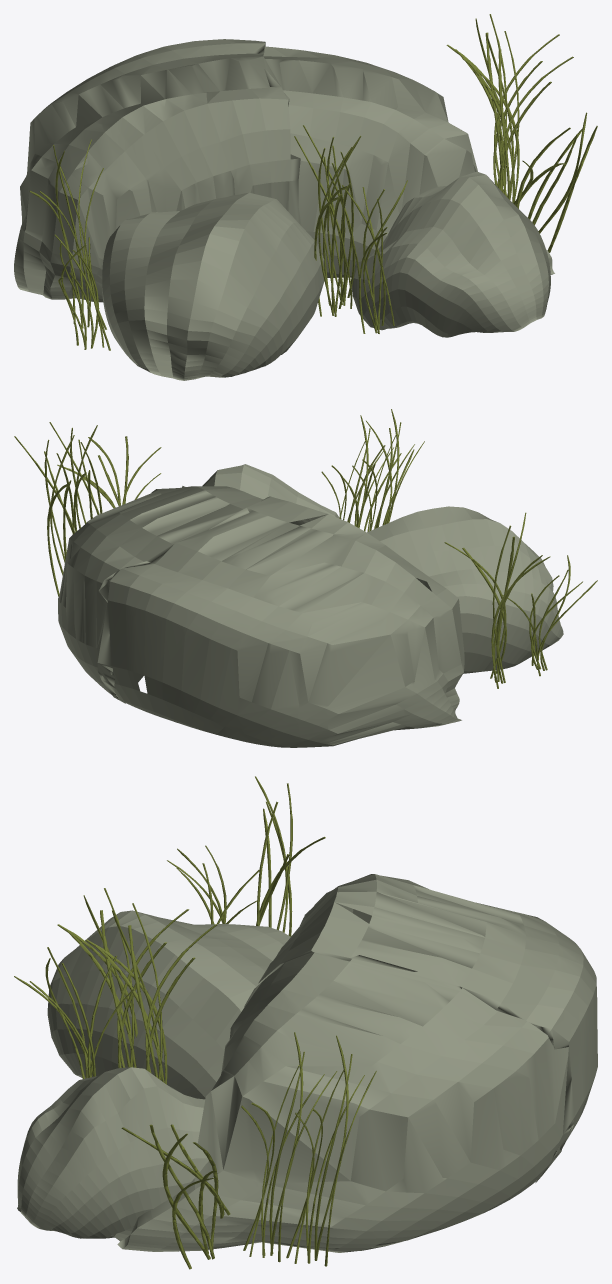
The model's file is ROCK.fbx.
The picture shows the model from 3 angles, top to bottom: view 1: azimuth 30°, elevation 25°; view 2: azimuth 150°, elevation 25°; view 3: azimuth 270°, elevation 25°; orthographic projection. The views are drawn at different scales.
Visible parts, largest first — view 1: Group6, Group2, Group4, D_3_00cm21, D_3_00cm51; view 2: Group6, Group2, Group4; view 3: Group6, Group2, Group4.
Boxes of the visible parts, x1,y1,x2,y2 form: Group6: [14, 39, 554, 302]; Group2: [102, 192, 324, 380]; Group4: [351, 171, 550, 337]; D_3_00cm21: [498, 49, 510, 199]; D_3_00cm51: [547, 126, 597, 252]; Group6: [58, 486, 464, 747]; Group2: [367, 506, 563, 673]; Group4: [202, 464, 339, 518]; Group6: [111, 874, 597, 1252]; Group2: [47, 910, 290, 1099]; Group4: [17, 1067, 208, 1238].
Bounding box in the file's own units: 871 × 320 × 665.
